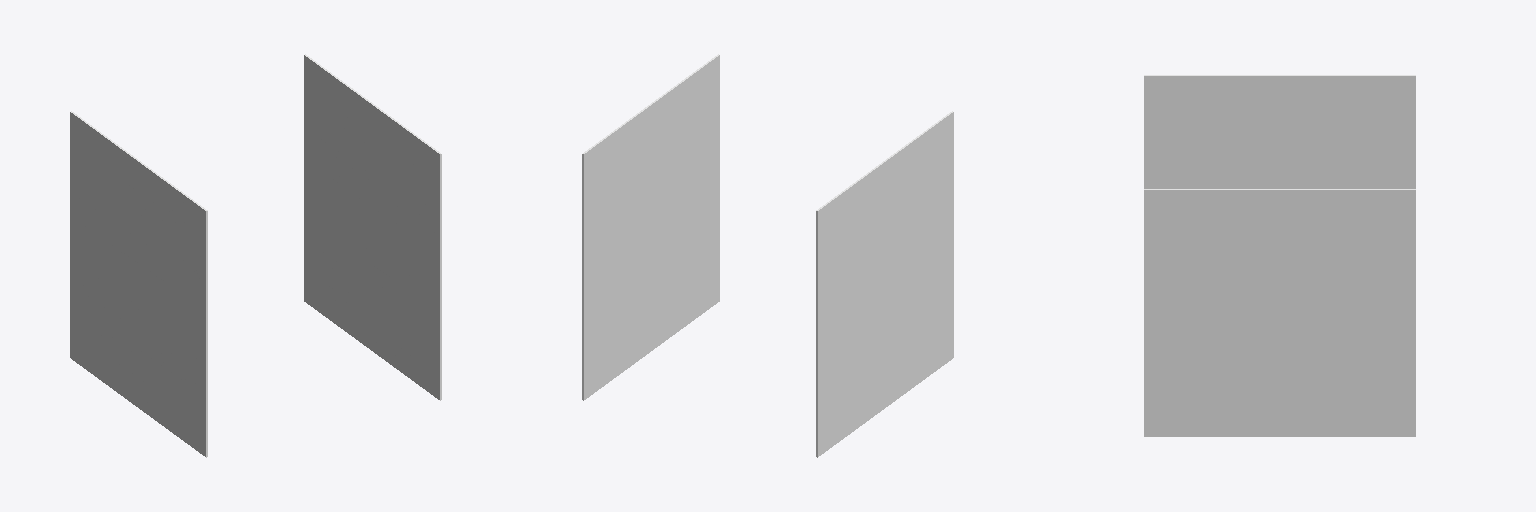
The model's file is skydown.obj.
3 views of the same model, side by side, from view 1: azimuth 30°, elevation 25°; view 2: azimuth 150°, elevation 25°; view 3: azimuth 270°, elevation 25° (orthographic).
Bounding box in the file's own units: 126 × 126 × 126.